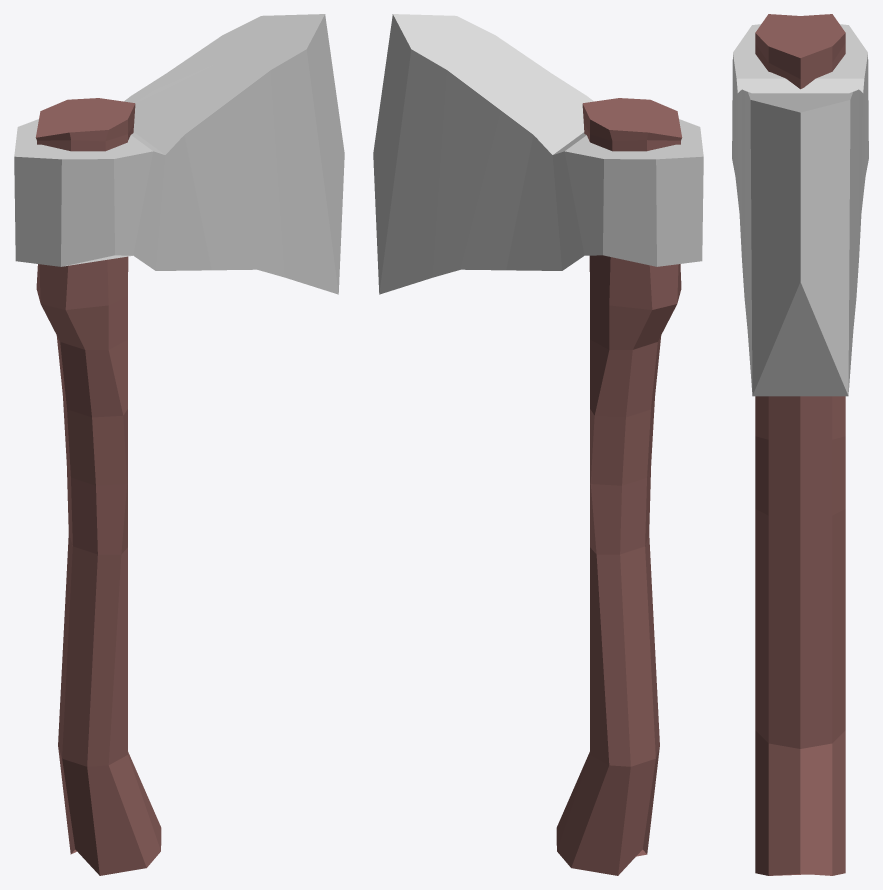
Rendered from axe.fbx.
3 views of the same model, side by side, from view 1: azimuth 30°, elevation 25°; view 2: azimuth 150°, elevation 25°; view 3: azimuth 270°, elevation 25° (orthographic). The views are drawn at different scales.
Parts seen in each view (by area): view 1: Cylinder.001, Cylinder; view 2: Cylinder.001, Cylinder; view 3: Cylinder, Cylinder.001.
Part boxes in pixels (x1,y1,x2,y2): Cylinder.001: (14,14,344,294); Cylinder: (35,98,161,875); Cylinder.001: (373,14,703,294); Cylinder: (556,98,682,875); Cylinder: (755,14,845,875); Cylinder.001: (732,24,868,396).
Size of the model in its own units: 107 by 245 by 35.03.
